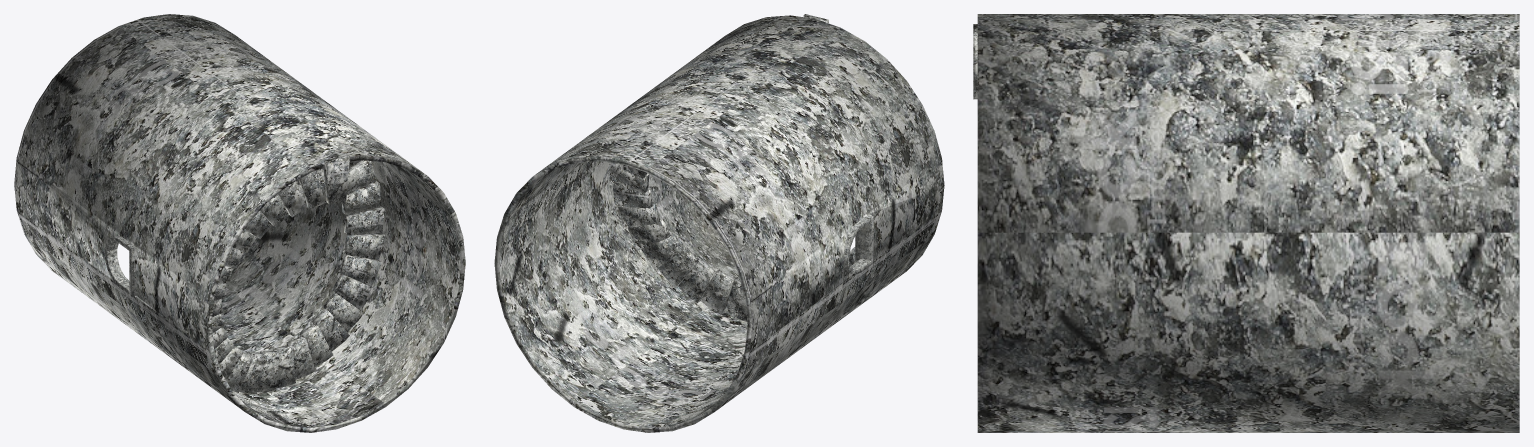
File: WindowFlame_05.fbx
3 views of the same model, side by side, from view 1: azimuth 30°, elevation 25°; view 2: azimuth 150°, elevation 25°; view 3: azimuth 270°, elevation 25° (orthographic). The views are drawn at different scales.
Parts seen in each view (by area): view 1: Cylinder.001; view 2: Cylinder.001; view 3: Cylinder.001.
Part boxes in pixels (bbox=[...]): Cylinder.001: bbox=[14, 14, 465, 432]; Cylinder.001: bbox=[494, 14, 944, 432]; Cylinder.001: bbox=[973, 14, 1519, 432].
Bounding box in the file's own units: 938 × 932 × 1210.
Materials: 1 (1 with a texture image).
